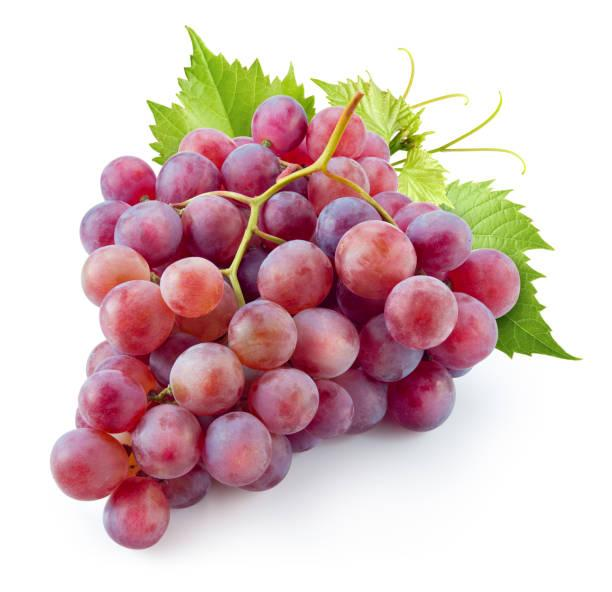grape: (36, 97, 525, 552)
